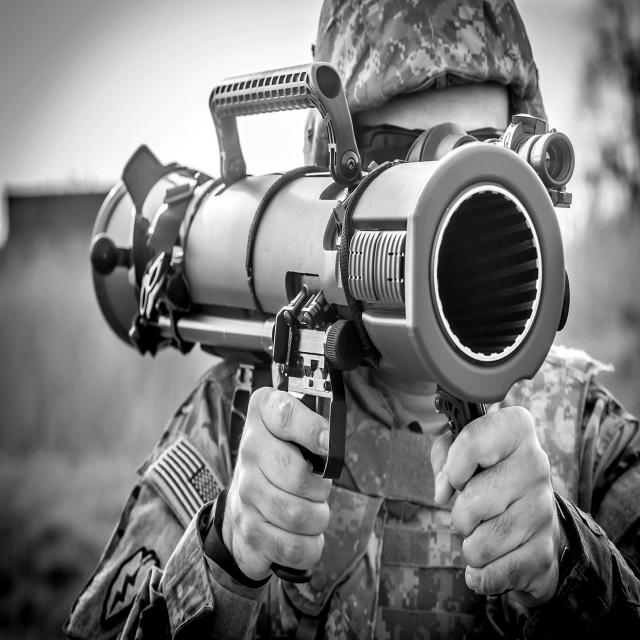Weapon: (90, 62, 573, 477)
